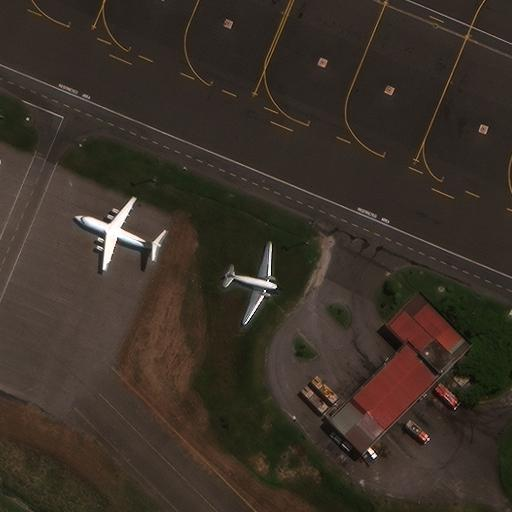Medium Civil Transport: (74, 196, 161, 270)
Military Transport: (223, 242, 277, 324)
